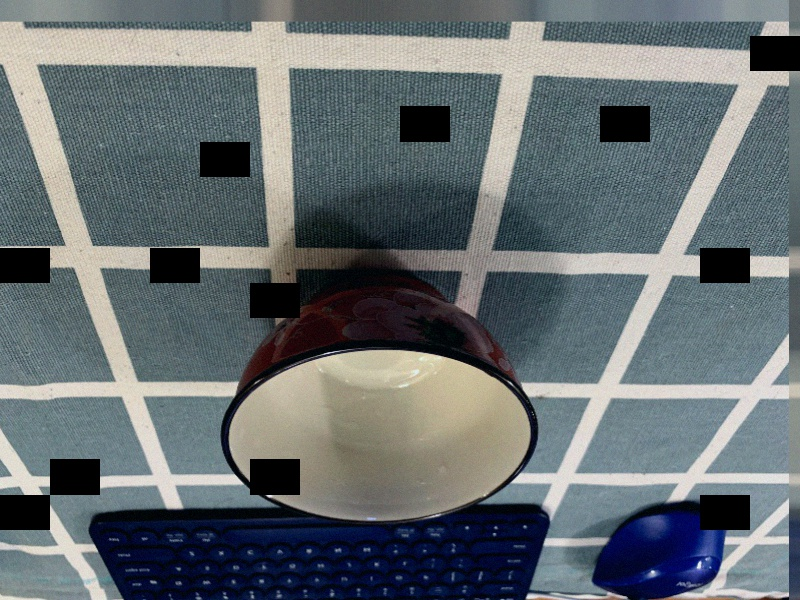bowl_small: (216, 262, 547, 530)
